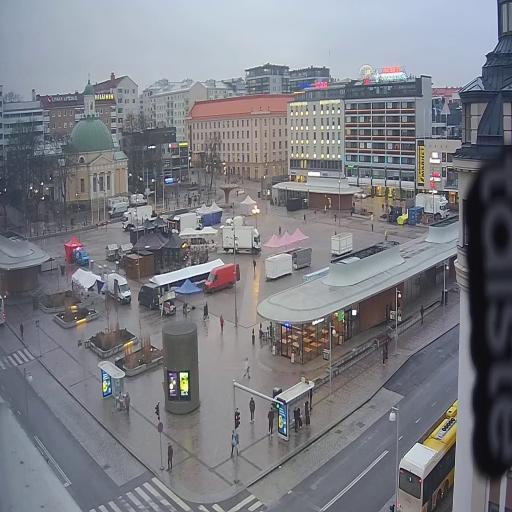bus: (390, 391, 464, 512), (0, 292, 9, 336)
delivery: (201, 258, 242, 298), (220, 224, 264, 256), (408, 188, 448, 220), (120, 199, 158, 231), (103, 271, 134, 309), (170, 206, 204, 236), (106, 200, 130, 222), (73, 245, 91, 272), (130, 188, 151, 206)
